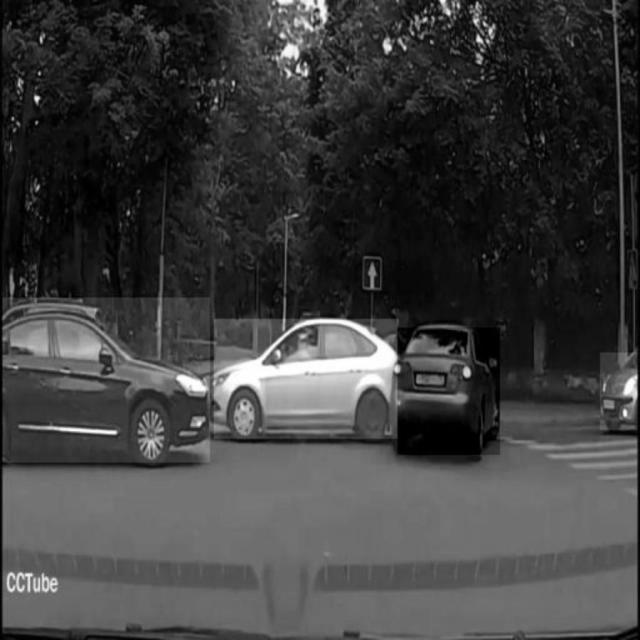vehicle: (3, 297, 210, 462), (214, 319, 399, 439), (397, 327, 499, 455), (599, 353, 637, 430)
